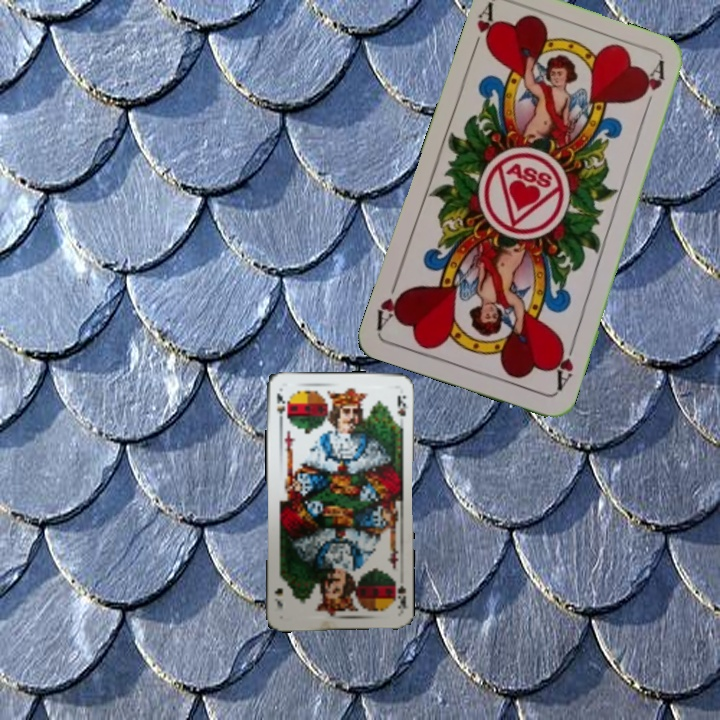HA: (467, 1, 501, 58), (549, 337, 579, 394)
SK: (390, 575, 409, 612), (272, 389, 288, 427)
